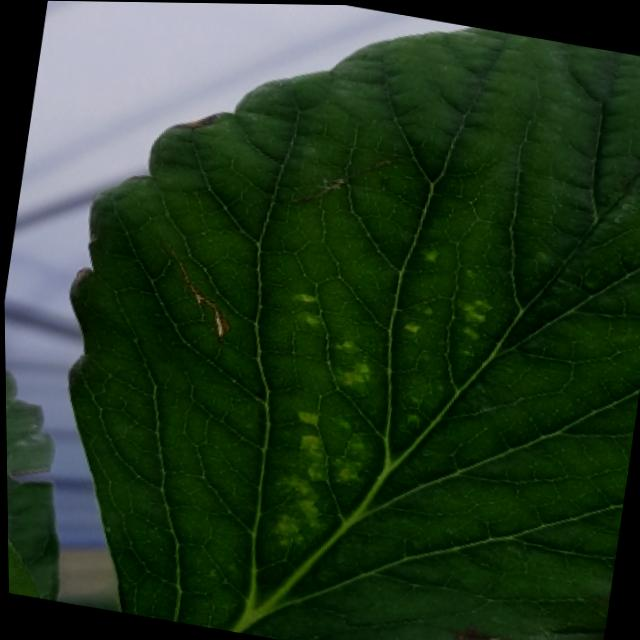Angular Leafspot: (258, 234, 553, 580)
